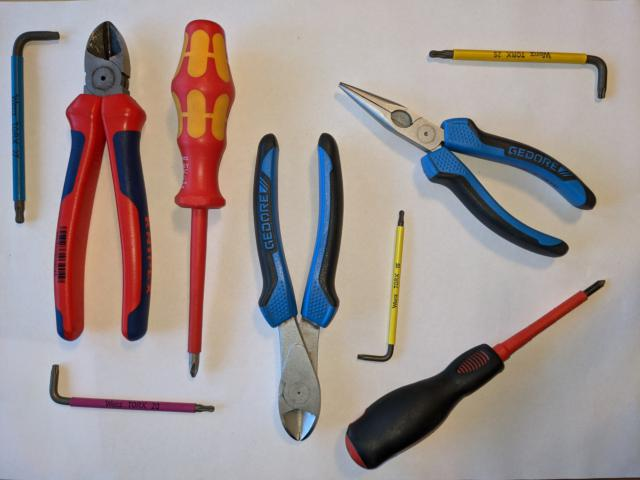Inbusschlüssel: (7, 27, 63, 227), (427, 46, 611, 101), (47, 361, 219, 416), (354, 206, 407, 366)
Schraubendreher: (339, 274, 609, 473), (165, 17, 238, 380)
Seitenschneider: (49, 18, 158, 346), (248, 130, 347, 444)
Zange: (334, 78, 600, 261)
